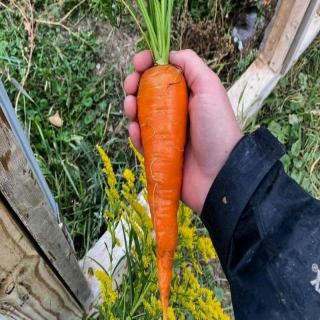carrot: (136, 62, 190, 320)
